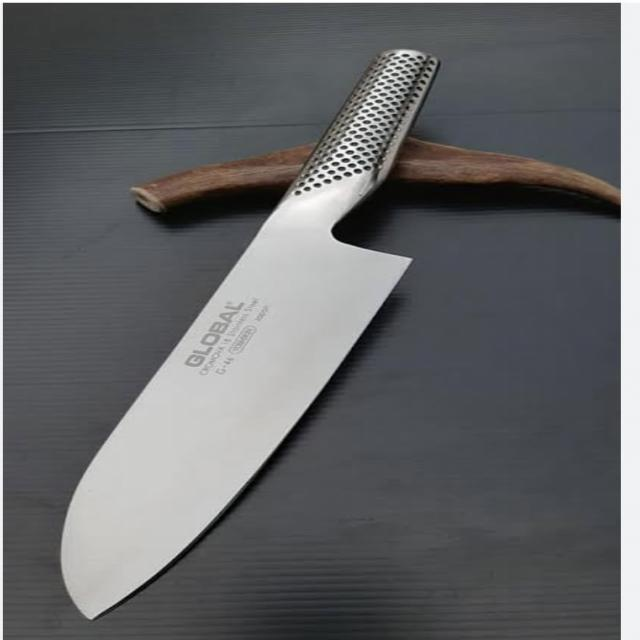Knife: (50, 43, 474, 622)
